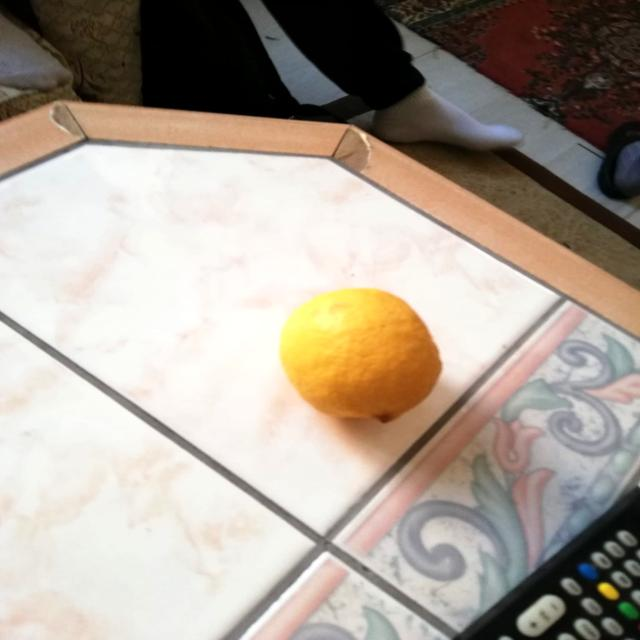lemon: (276, 280, 450, 431)
